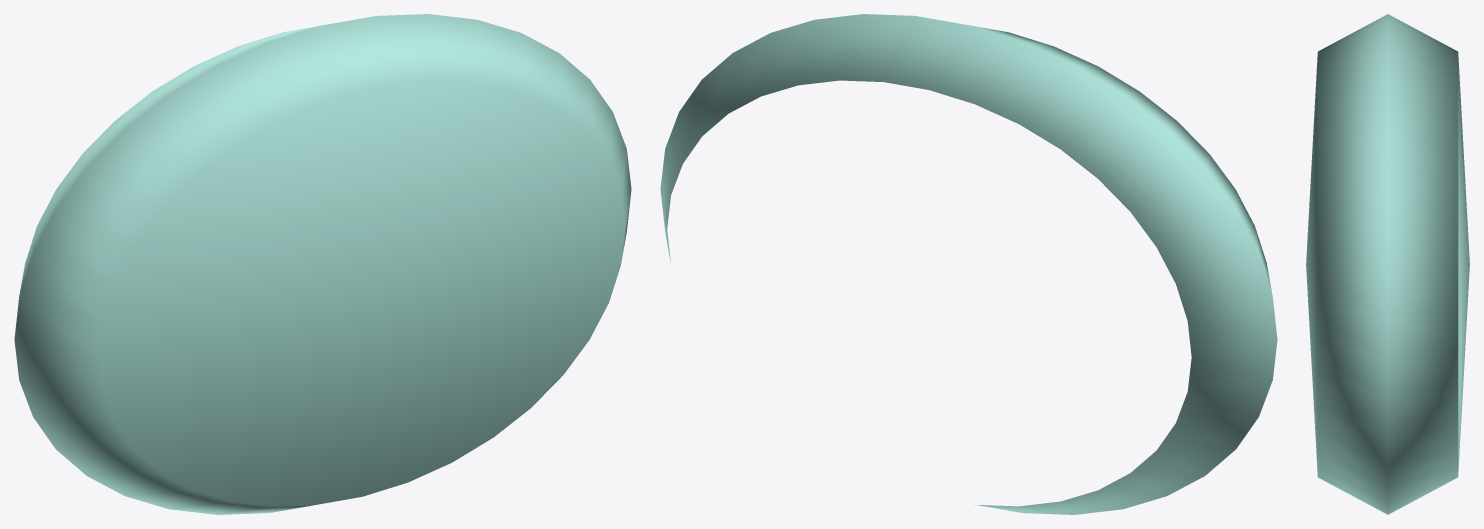
File: soap.glb
3 views of the same model, side by side, from view 1: azimuth 30°, elevation 25°; view 2: azimuth 150°, elevation 25°; view 3: azimuth 270°, elevation 25° (orthographic). The views are drawn at different scales.
Visible parts, largest first — view 1: soap; view 2: soap; view 3: soap.
Boxes of the visible parts, <box> form: soap: <box>14,14,631,514</box>; soap: <box>660,14,1277,514</box>; soap: <box>1306,14,1469,514</box>.
Size of the model in its own units: 0.108 by 0.08 by 0.028.
